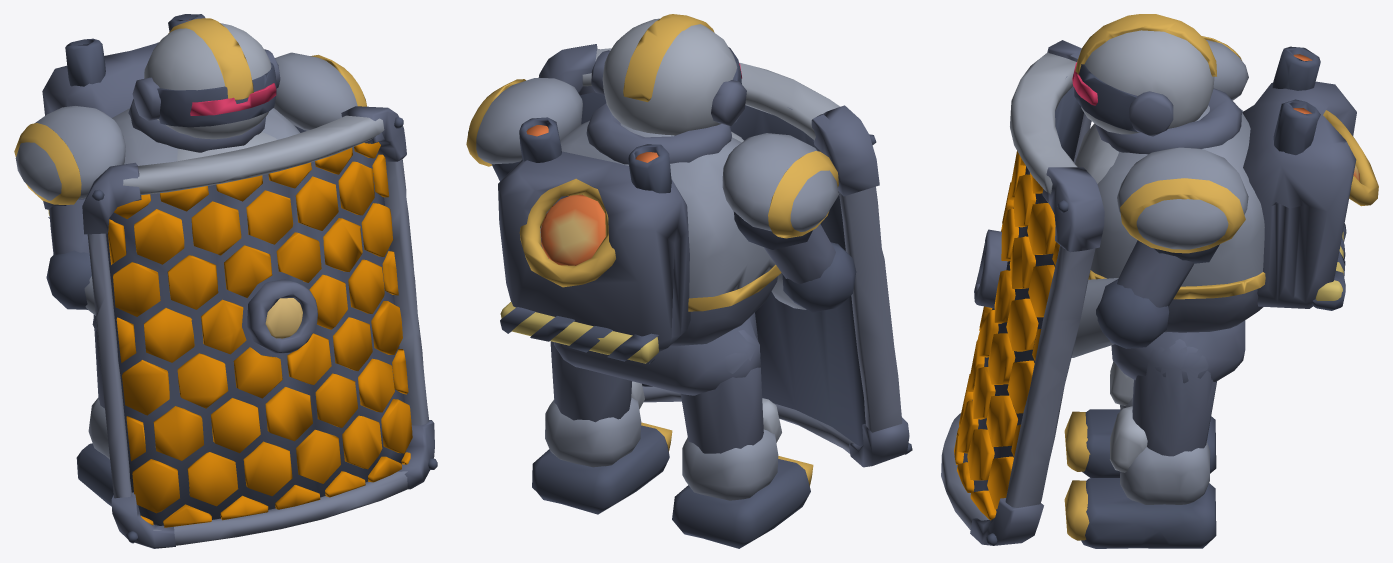
Rendered from shield.glb.
3 renders of one model, left to right at view 1: azimuth 30°, elevation 25°; view 2: azimuth 150°, elevation 25°; view 3: azimuth 270°, elevation 25°, orthographic. The views are drawn at different scales.
Visible parts, largest first — view 1: shield_glow, shield, head, arm_r, torso, arm_l, shin_r, head_glow; view 2: torso, shield, arm_r, head, shin_r, shin_l, arm_l, leg_r, back_glow, leg_l; view 3: torso, shield, arm_l, shield_glow, shin_l, head, leg_l, shin_r, arm_r.
Part boxes in pixels (x1,y1,x2,y2): shield_glow: (108, 142, 412, 527); shield: (82, 106, 437, 548); head: (132, 18, 280, 139); arm_r: (14, 106, 125, 315); torso: (42, 14, 306, 331); arm_l: (274, 52, 366, 130); shin_r: (76, 398, 113, 506); head_glow: (190, 83, 276, 115); torso: (492, 103, 812, 395); shield: (538, 44, 912, 467); arm_r: (722, 133, 856, 312); head: (591, 14, 746, 135); shin_r: (672, 398, 813, 548); shin_l: (532, 381, 672, 514); arm_l: (466, 78, 582, 166); leg_r: (680, 330, 763, 453); back_glow: (526, 125, 658, 265); leg_l: (550, 341, 632, 422); torso: (1075, 46, 1378, 383); shield: (941, 40, 1104, 545); arm_l: (1071, 147, 1248, 357); shield_glow: (954, 151, 1059, 520); shin_l: (1064, 406, 1216, 548); head: (1074, 14, 1216, 136); leg_l: (1132, 339, 1216, 456); shin_r: (1064, 361, 1216, 477); arm_r: (1202, 36, 1248, 100).
Size of the model in its own units: 0.893 by 1.18 by 0.9702.
